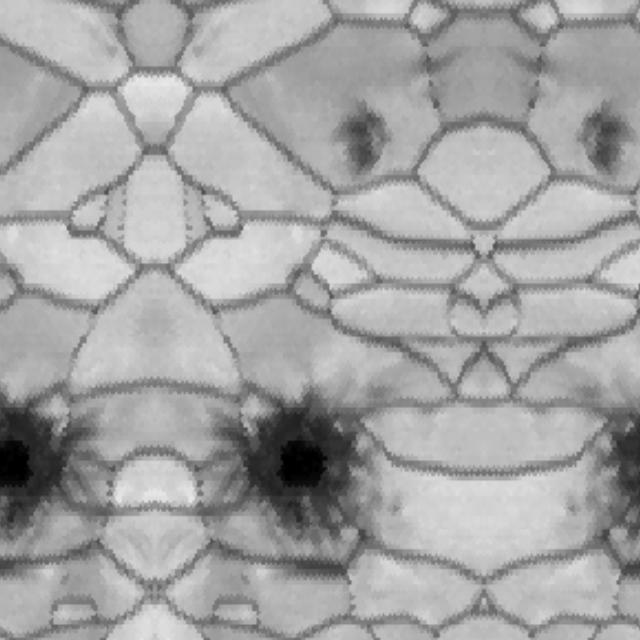good_void: (175, 390, 408, 608), (0, 390, 135, 596), (562, 404, 640, 608), (323, 76, 398, 194), (572, 76, 640, 194), (398, 25, 473, 126), (497, 25, 572, 126)
